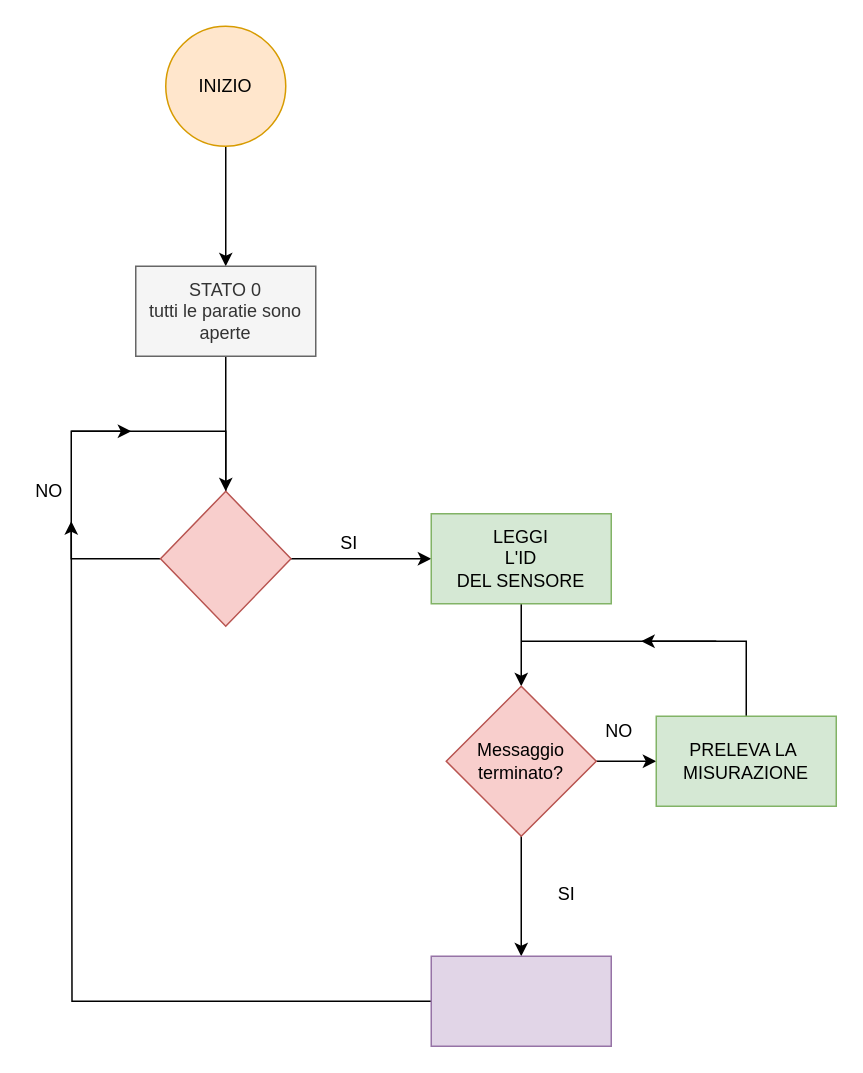
This 863x1073 diagram has some shape labels left out. The centre of each missing label's shape, as x and y in pixels:
"C'è un dato dalla linea seriale" goes at (225,558).
"SCRIVI LA TUPLA < ID, MISURA >" goes at (520,1000).
